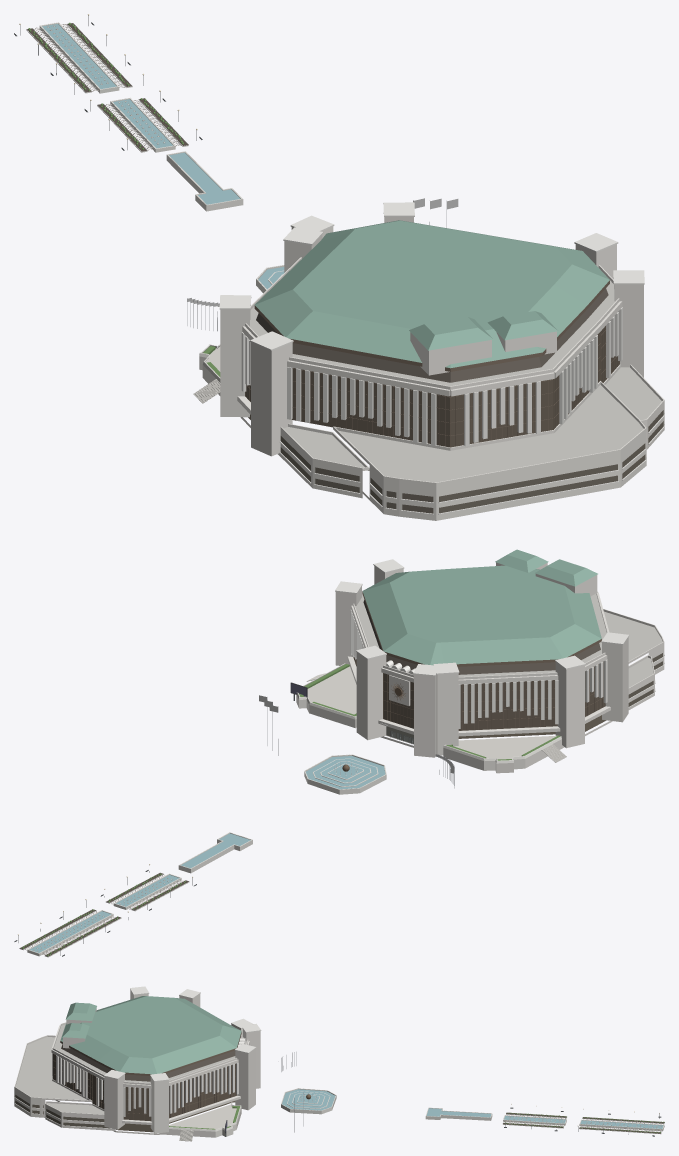
Rendered from ndk.glb.
3 views of the same model, one above another, from view 1: azimuth 30°, elevation 25°; view 2: azimuth 150°, elevation 25°; view 3: azimuth 270°, elevation 25° (orthographic). The views are drawn at different scales.
Parts seen in each view (by area): view 1: ndk; view 2: ndk; view 3: ndk.
Boxes of the visible parts, left/top/right/bottom form: ndk: left=14, top=14, right=664, bottom=520; ndk: left=14, top=549, right=664, bottom=957; ndk: left=14, top=986, right=664, bottom=1141.
Bounding box in the file's own units: 144 × 55.32 × 408.
